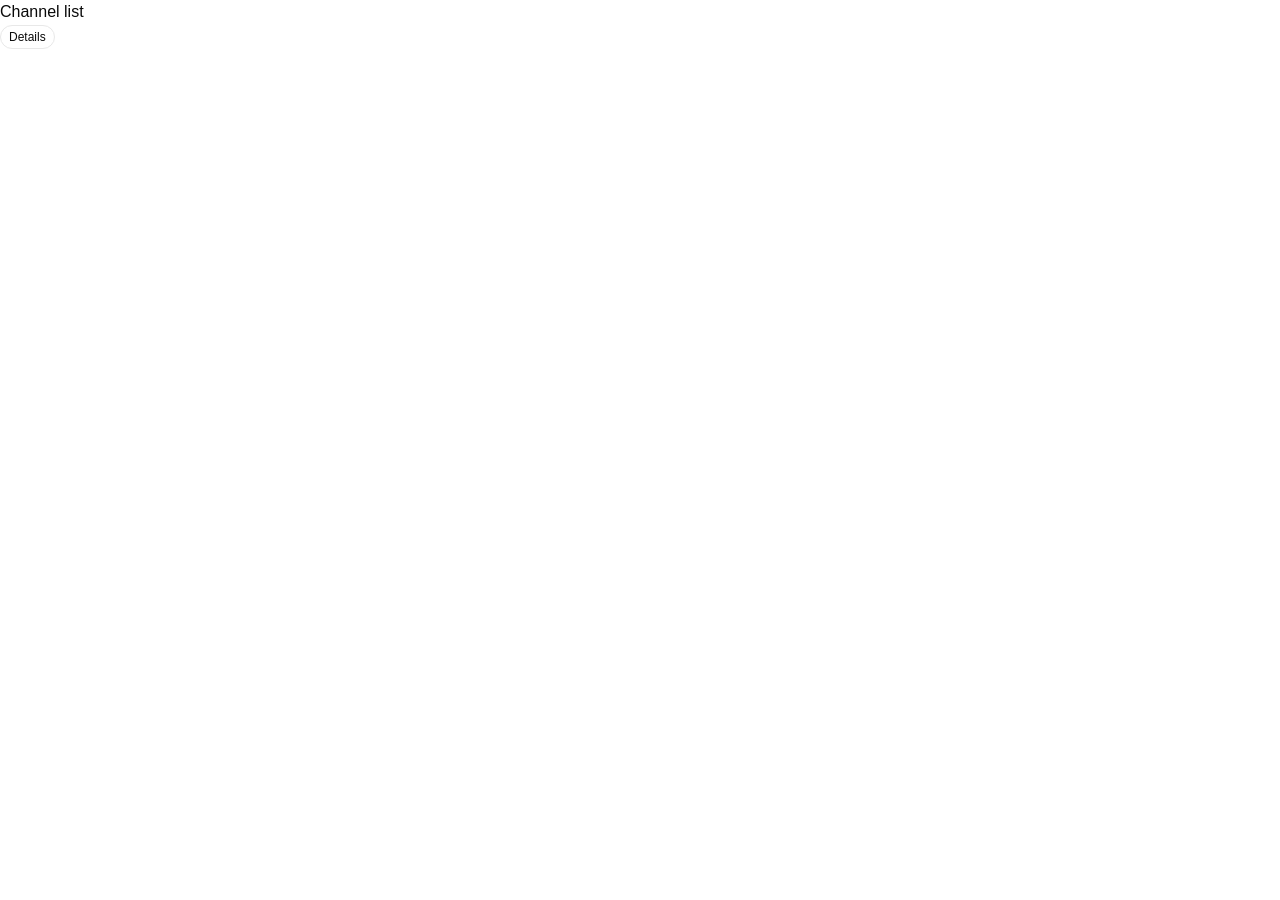
Test: one request opens in the usage log by its request ID
Later steps or results of the test are not shown.
Expected: the heading "Channel list" is shown, top-left (0, 3), bottom-right (84, 20)
Click the button with aria-label "Details of prod": (27, 37) top-left (0, 25), bottom-right (55, 49)
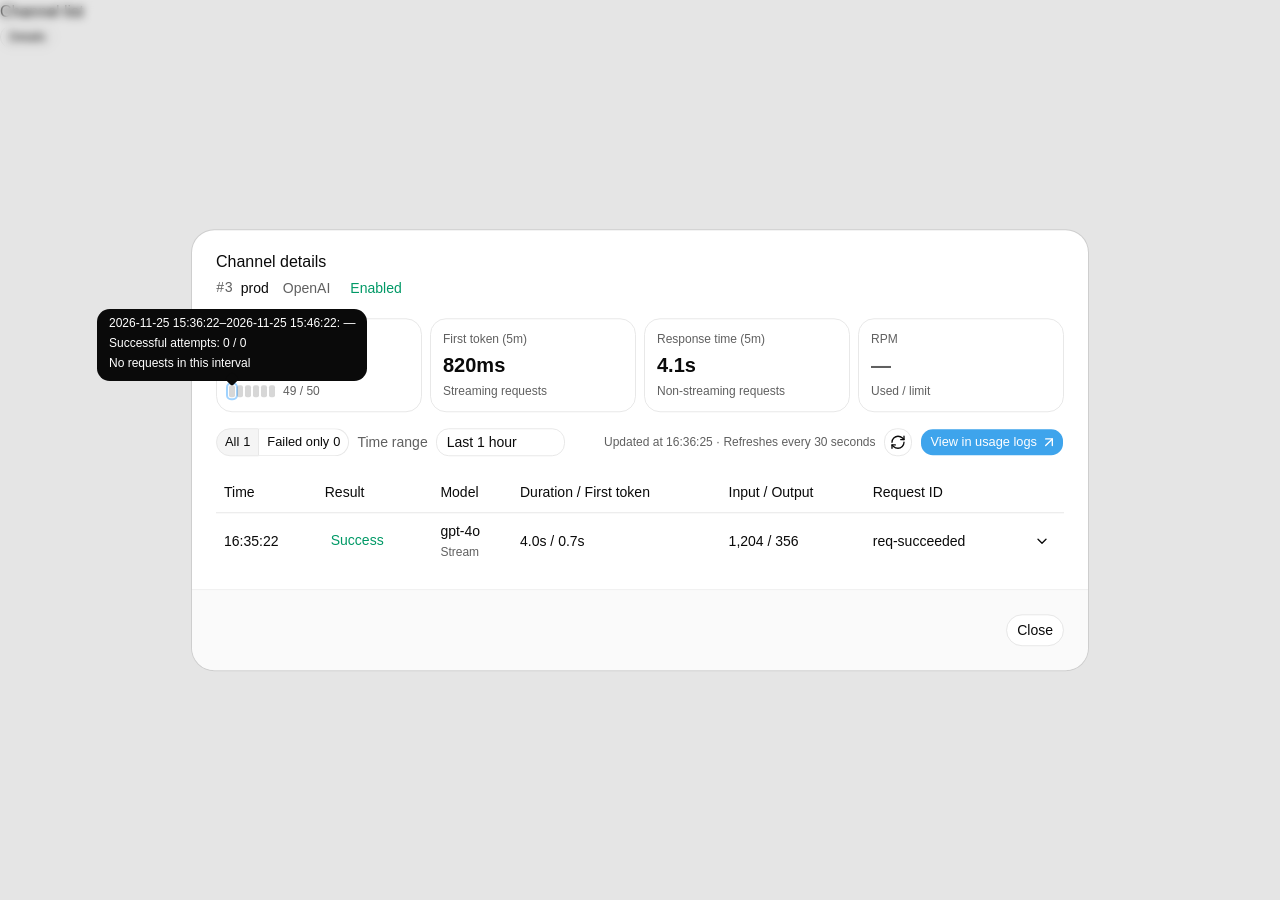
Result: the text "req-succeeded" is shown at top-left (873, 533), bottom-right (965, 549)
Click the button named "Show details": (1042, 541) top-left (1028, 527), bottom-right (1056, 555)
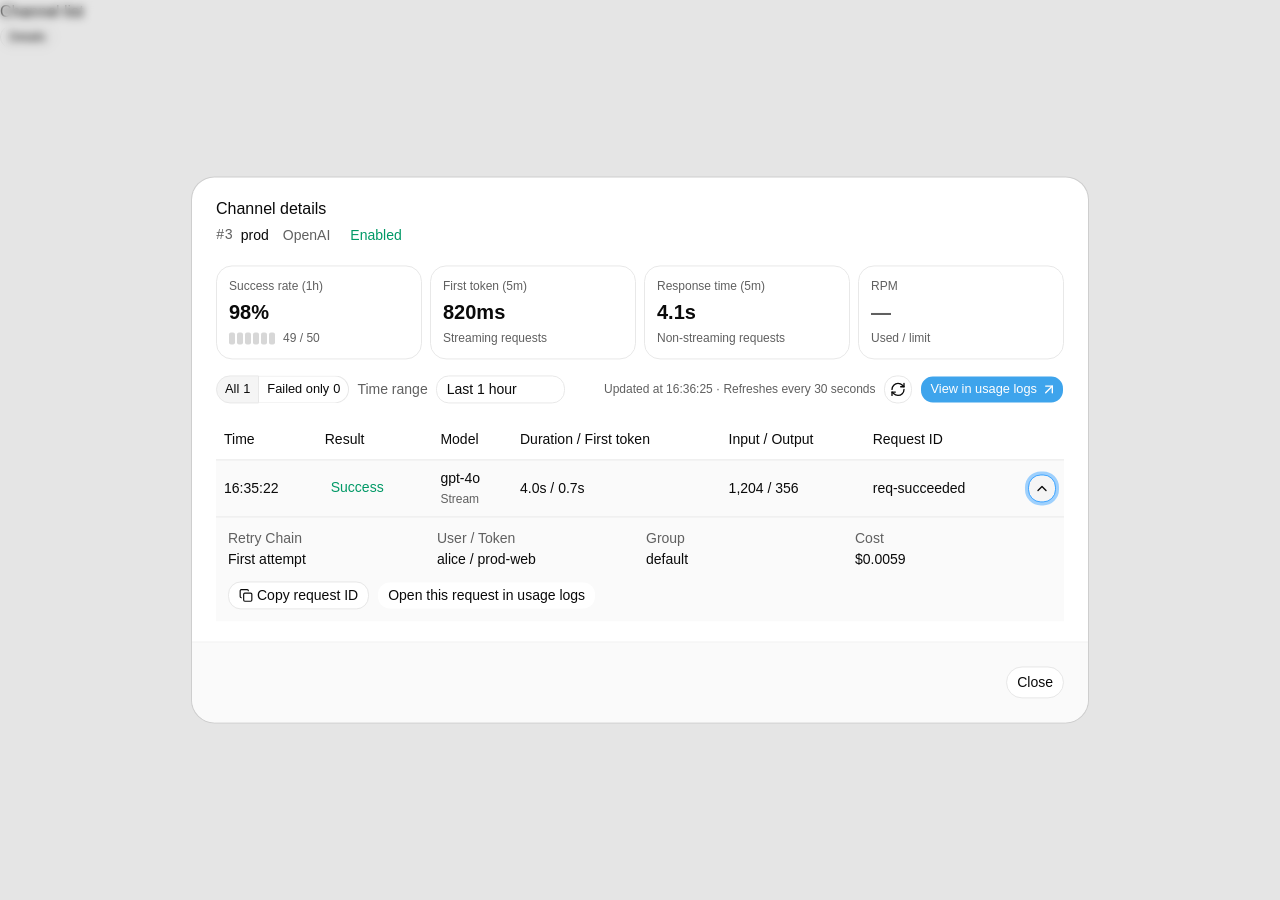
Result: the text "First attempt" is shown at top-left (228, 552), bottom-right (306, 568)
